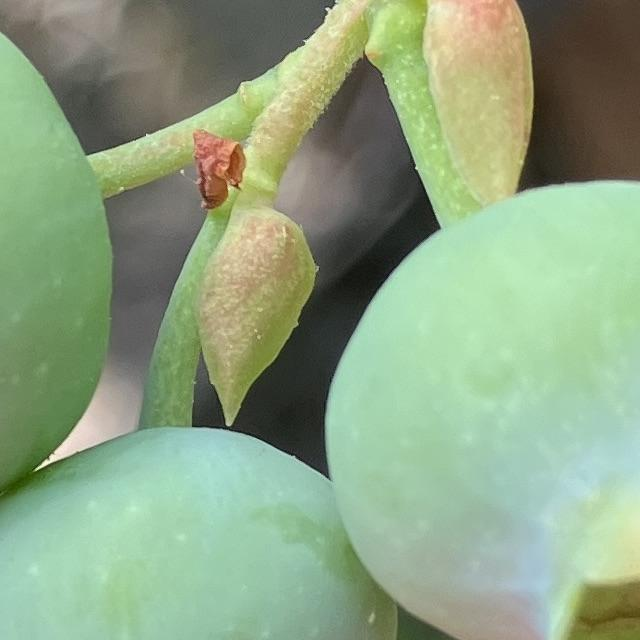Blueberries: (320, 172, 640, 640), (0, 424, 407, 640)
